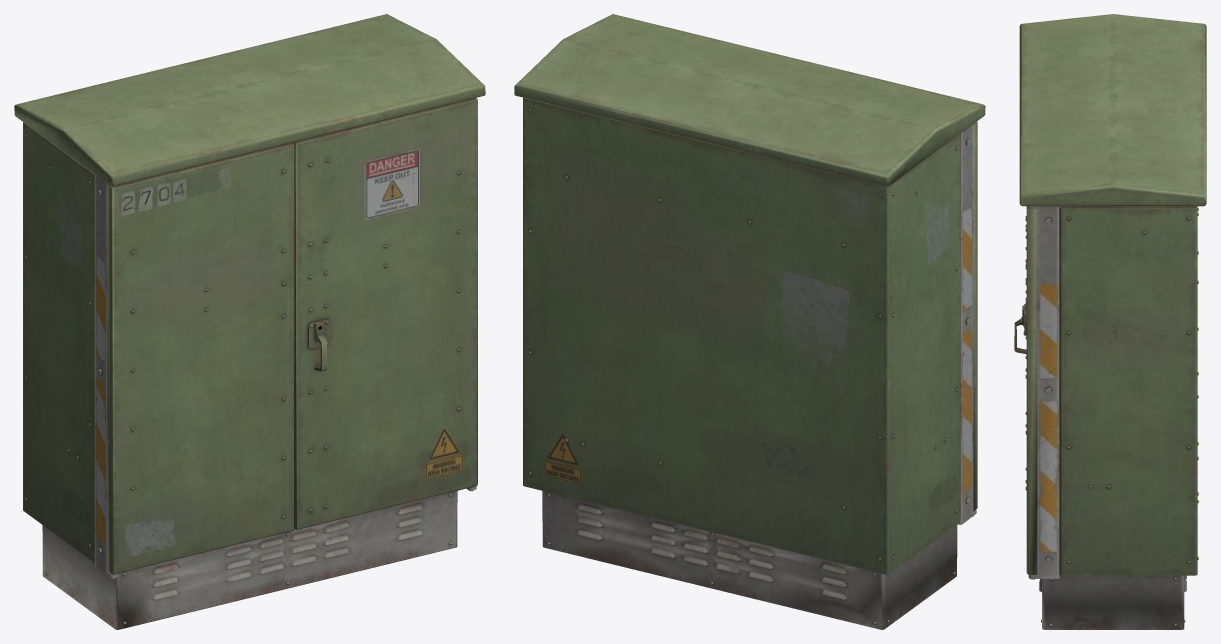
File: utility_box_02.gltf
The picture shows the model from 3 angles, left to right: view 1: azimuth 30°, elevation 25°; view 2: azimuth 150°, elevation 25°; view 3: azimuth 270°, elevation 25°; orthographic projection. The views are drawn at different scales.
Visible parts, largest first — view 1: utility_box_02; view 2: utility_box_02; view 3: utility_box_02.
Part boxes in pixels (<box>): utility_box_02: <box>14,14,485,629</box>; utility_box_02: <box>514,14,985,629</box>; utility_box_02: <box>1014,14,1206,629</box>.
Size of the model in its own units: 0.92 by 1.12 by 0.432.
1 material, 1 textured.
